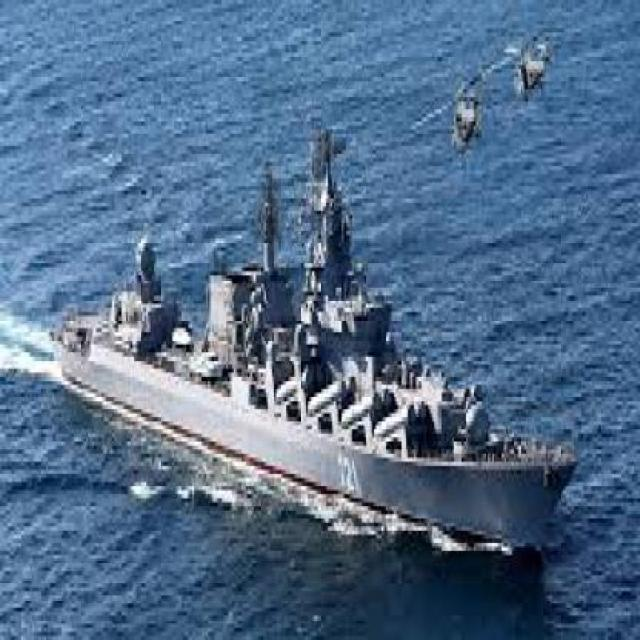warship2: (31, 139, 594, 560)
